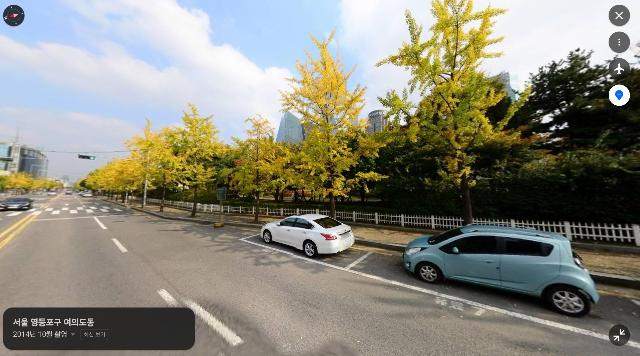ginkgo: (372, 0, 532, 226), (271, 27, 389, 221), (154, 102, 229, 219), (229, 113, 296, 224), (123, 119, 184, 212), (100, 153, 142, 206), (84, 166, 117, 202), (75, 175, 100, 197)
